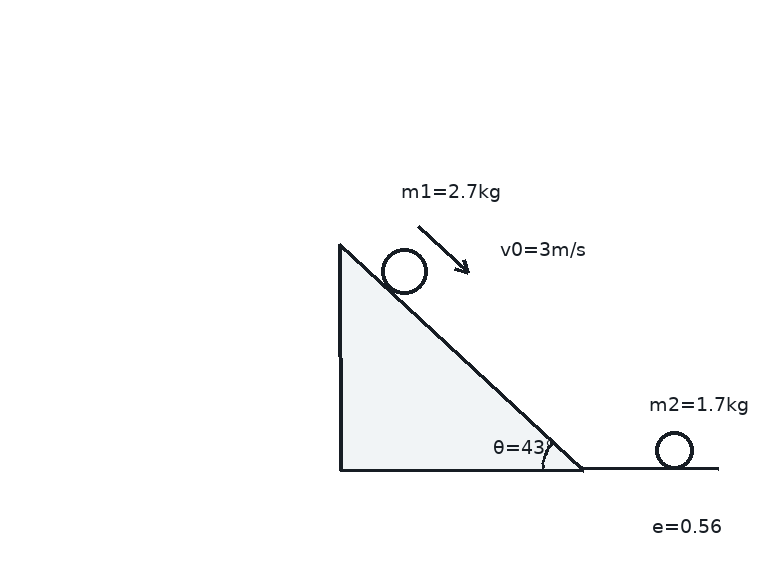ball: (379, 246, 429, 296), (653, 429, 695, 471)
ramp: (338, 241, 584, 471)
